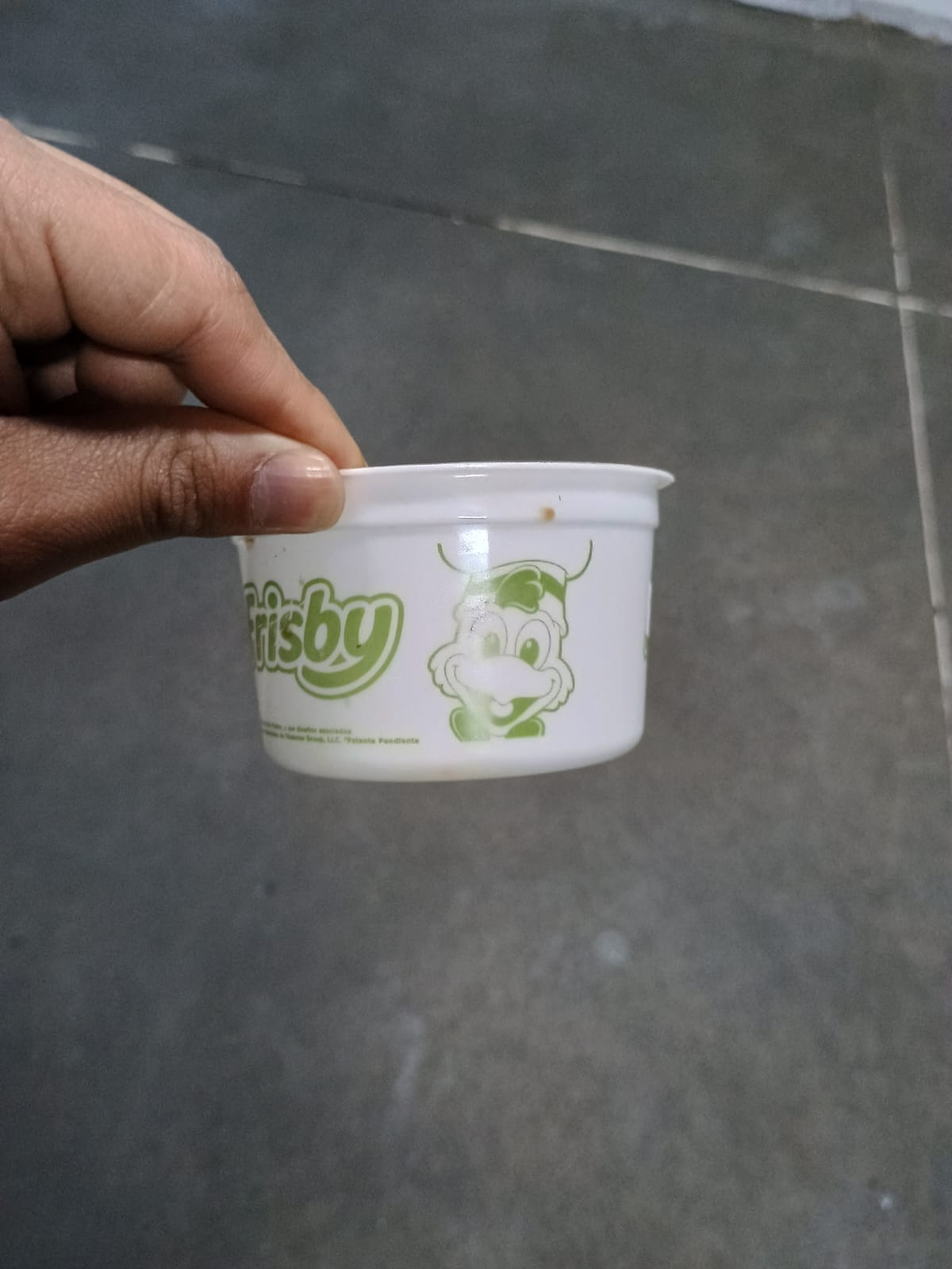Plastico: (230, 462, 680, 786)
